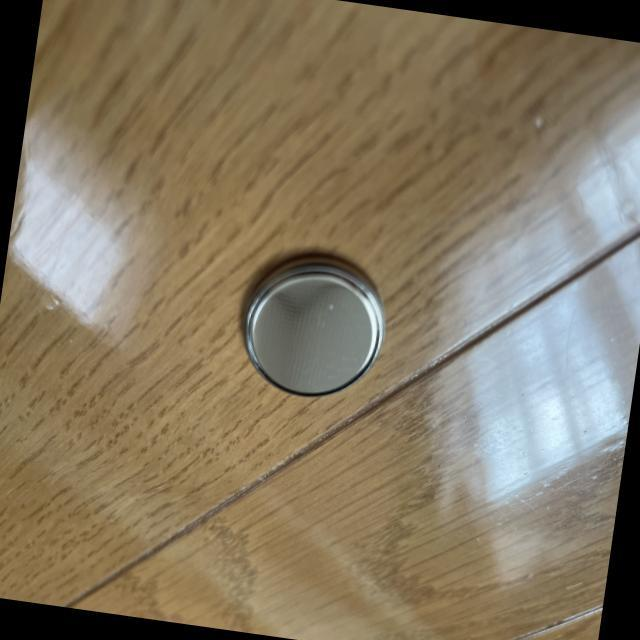COIN: (231, 241, 396, 408)
